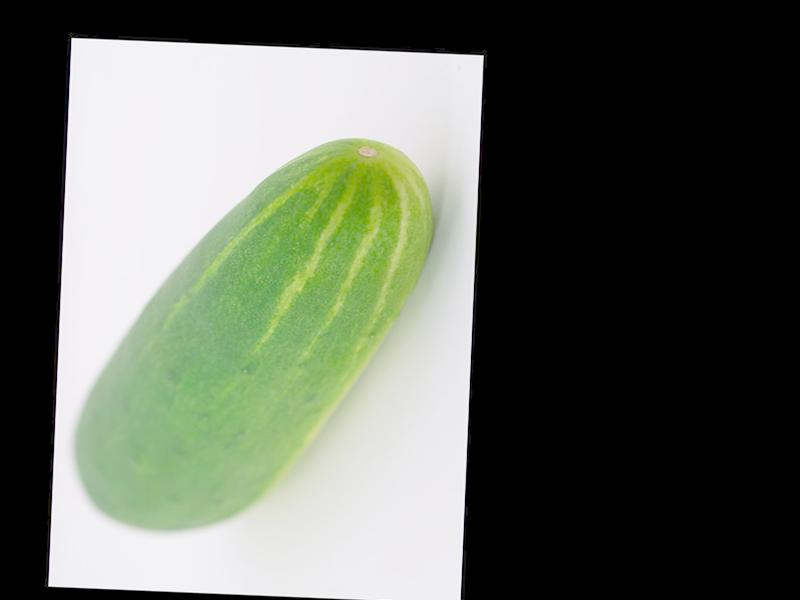Cucumber: (70, 127, 436, 543)
